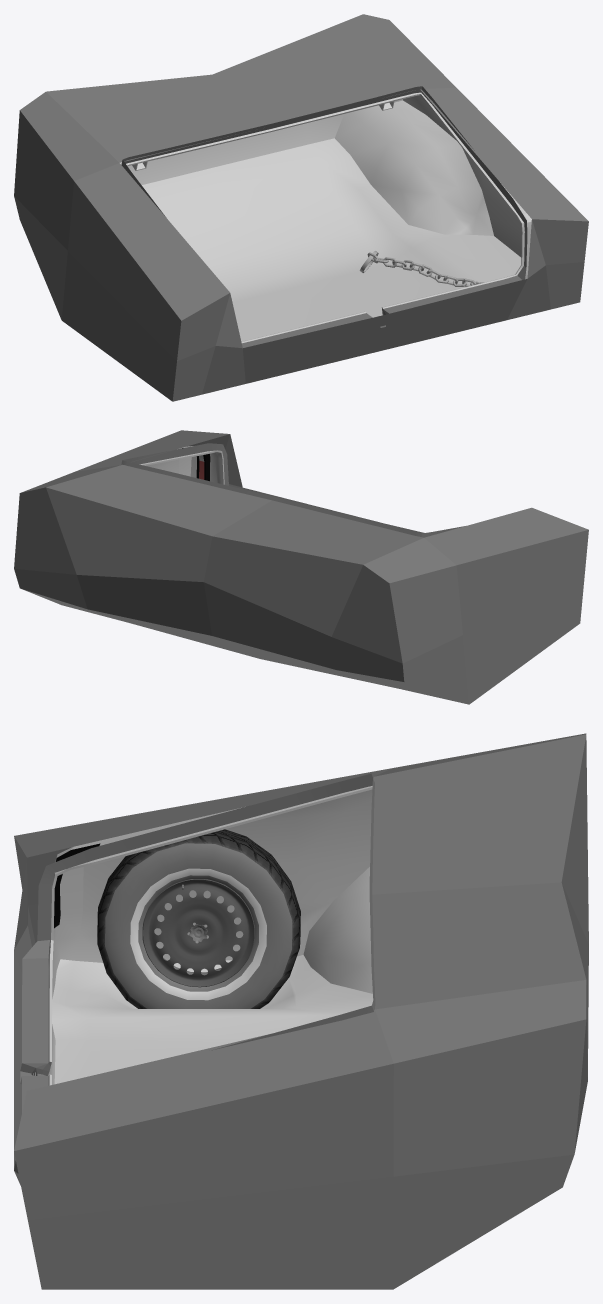
File: Trunk.fbx
3 views of the same model, one above another, from view 1: azimuth 30°, elevation 25°; view 2: azimuth 150°, elevation 25°; view 3: azimuth 270°, elevation 25° (orthographic). The views are drawn at different scales.
Visible parts, largest first — view 1: polySurface53; view 2: polySurface53; view 3: polySurface53.
Boxes of the visible parts, x1,y1,x2,y2 form: polySurface53: [14, 14, 588, 401]; polySurface53: [14, 430, 588, 704]; polySurface53: [14, 733, 588, 1289].
Bounding box in the file's own units: 53.37 × 22.43 × 41.14.
